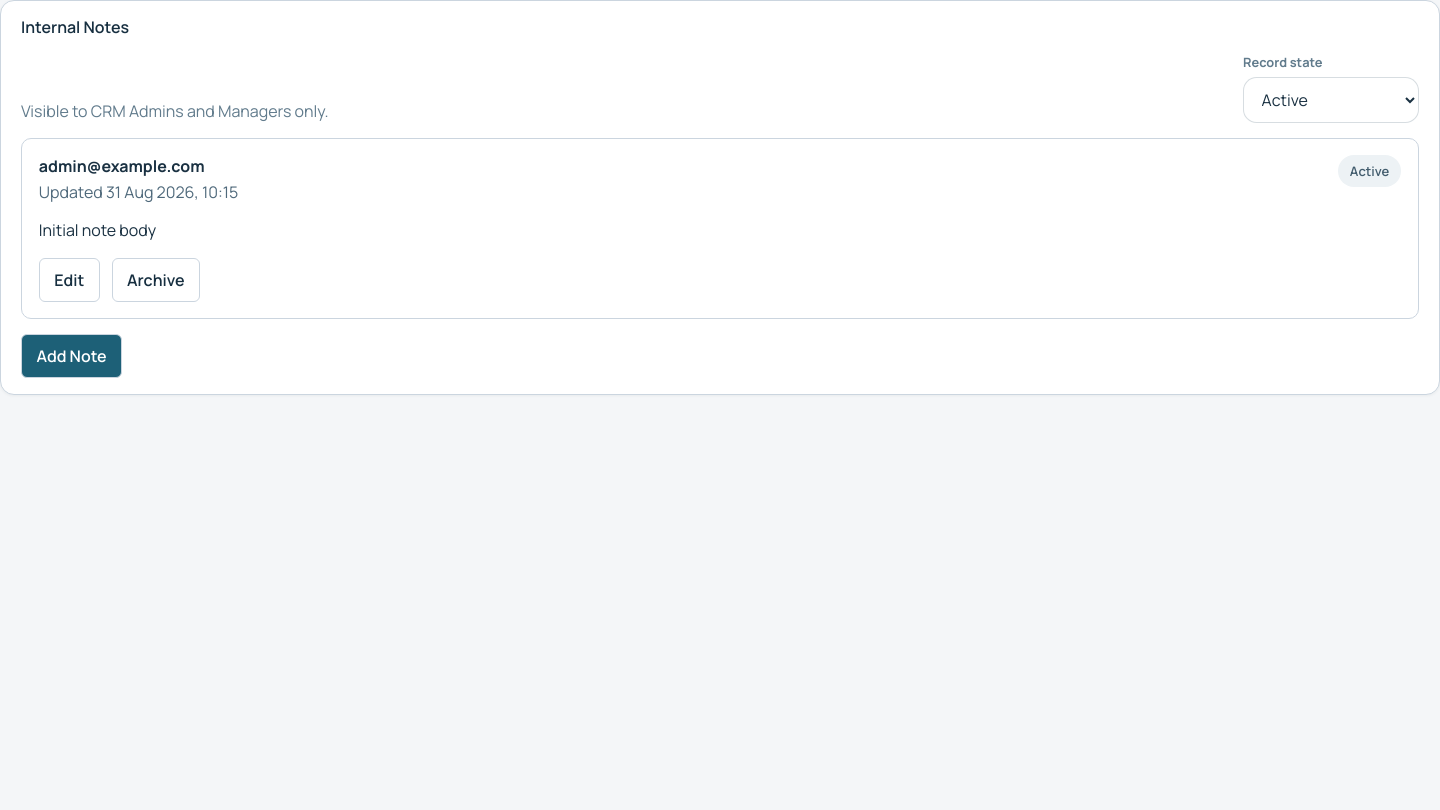
Scenario: PersonNotesSectionComponent › creates a note, then refreshes the notes list authoritatively
Click the button "Add Note" at x=72, y=356, box x1=21 y1=334 x2=122 y2=378
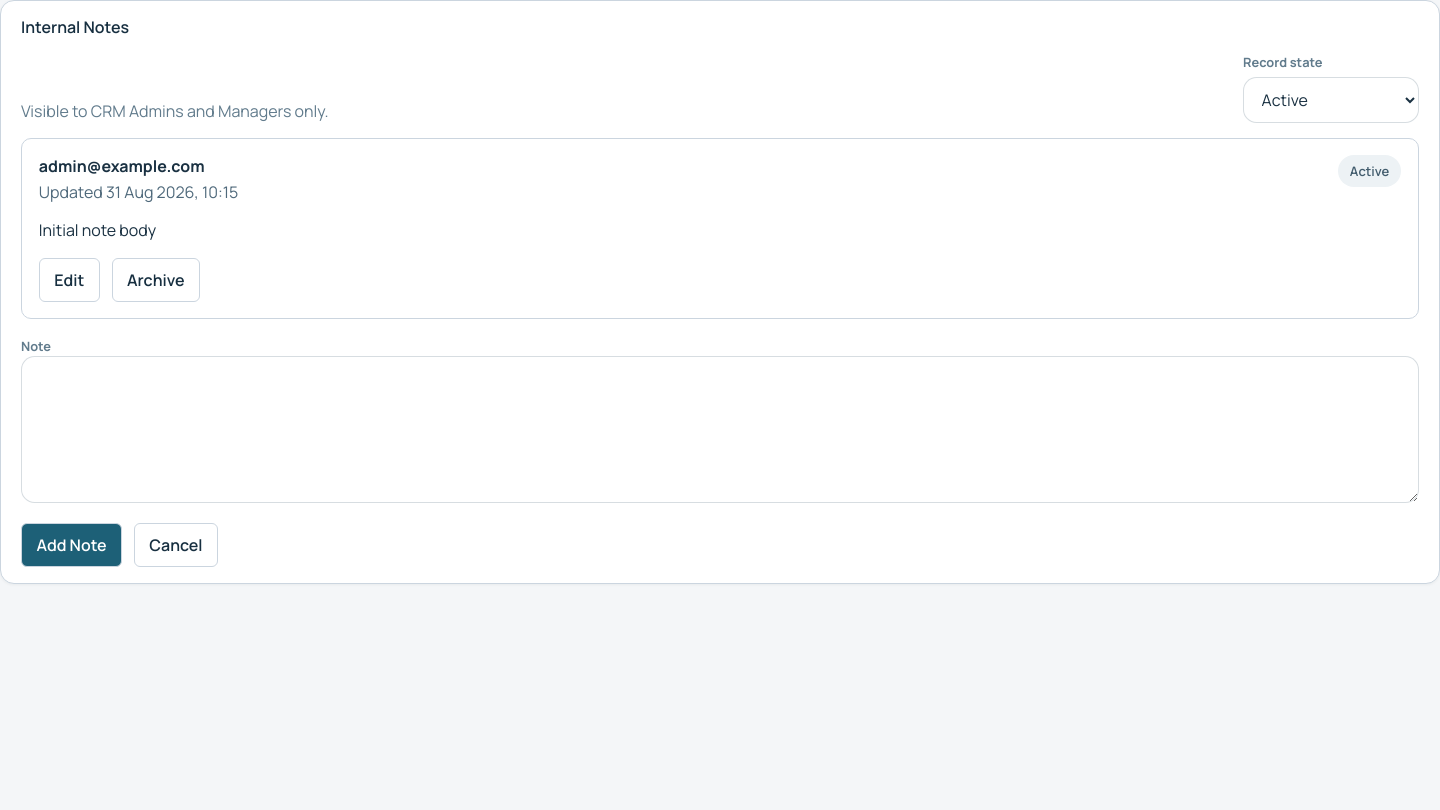
Type "New internal note" into the text box labelled "Note" at x=720, y=430, box x1=21 y1=356 x2=1419 y2=503
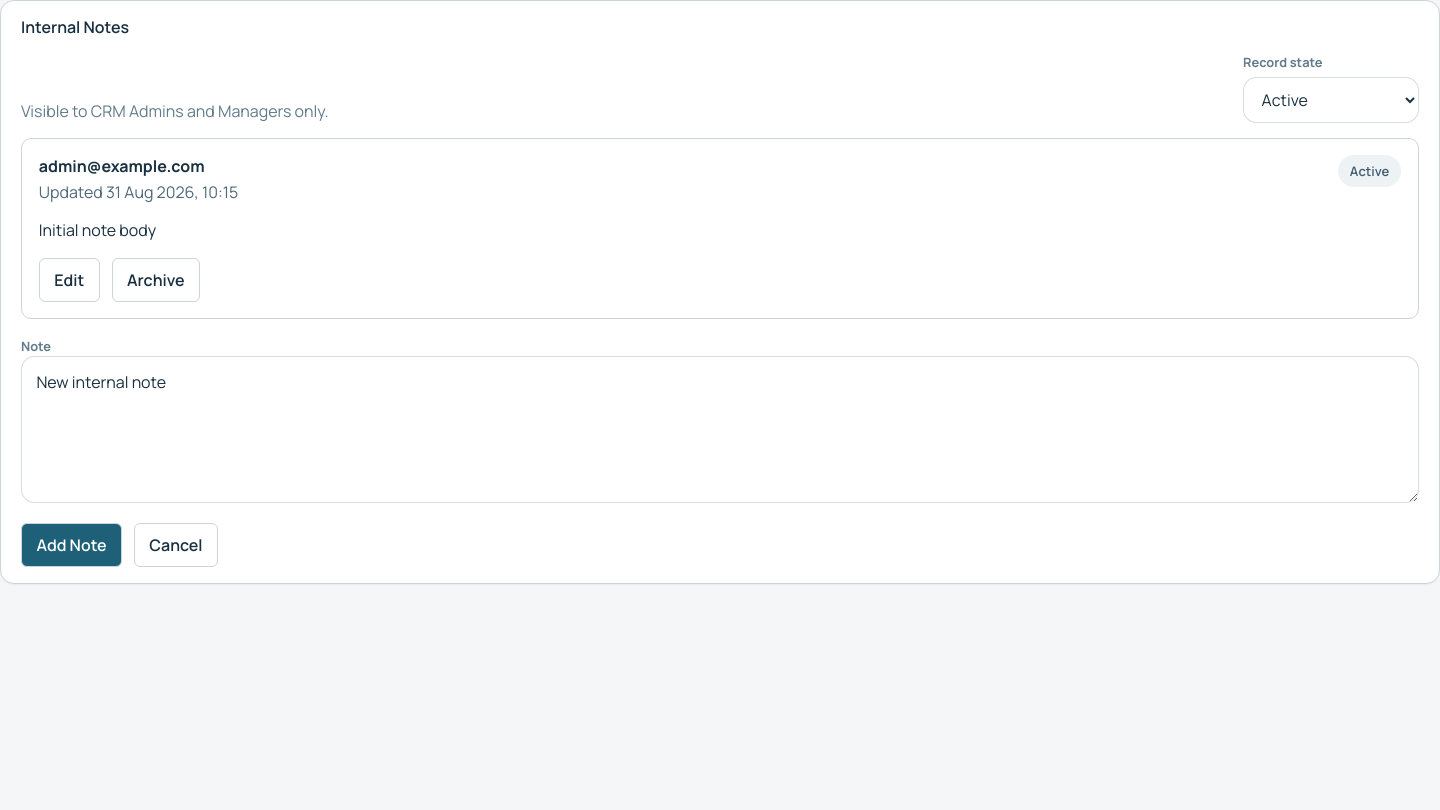
Submit the form with class "note-create-form", box x1=21 y1=334 x2=1419 y2=567
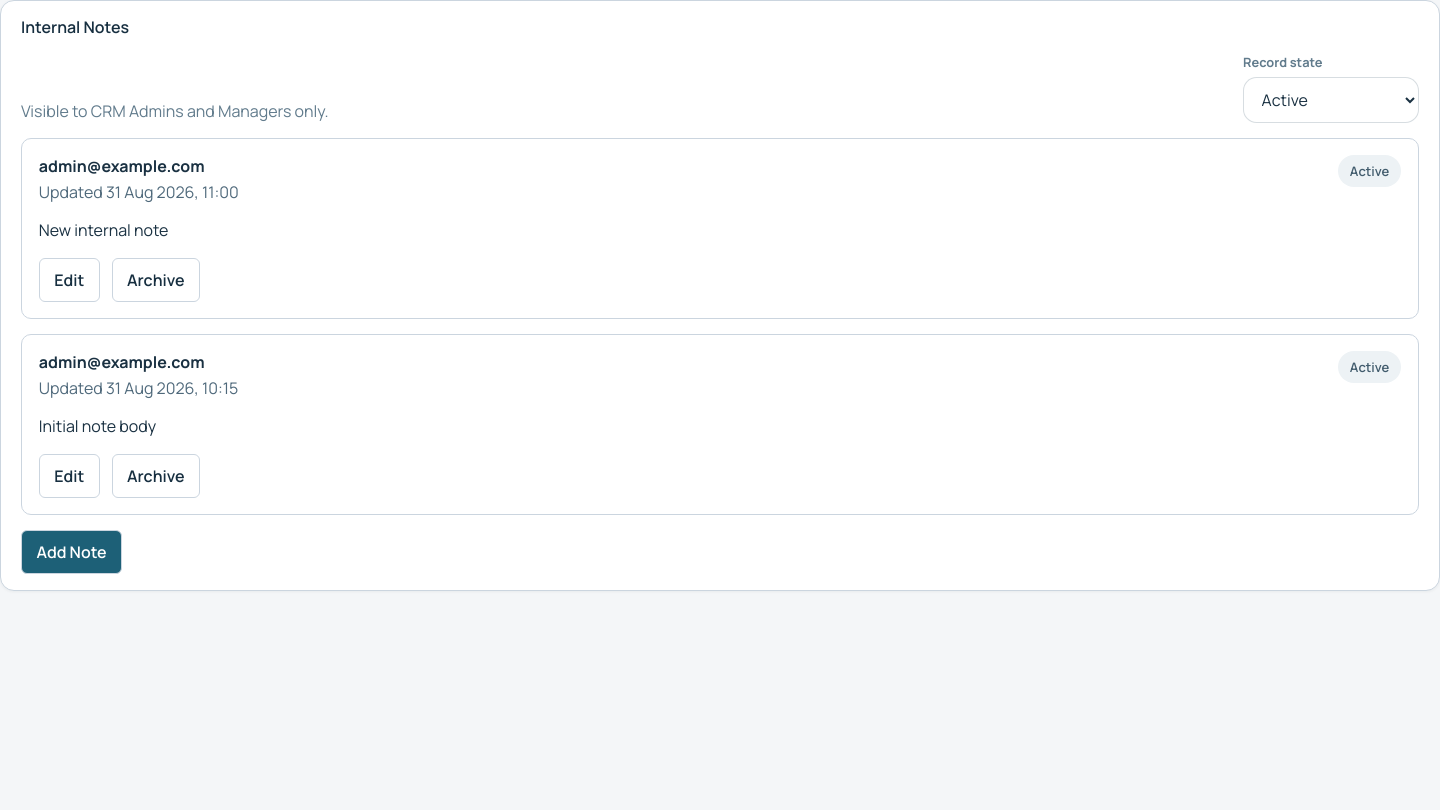
Expected: the text "New internal note" is shown, x1=39 y1=219 x2=168 y2=241
Expected: the form with class "note-create-form" is gone
